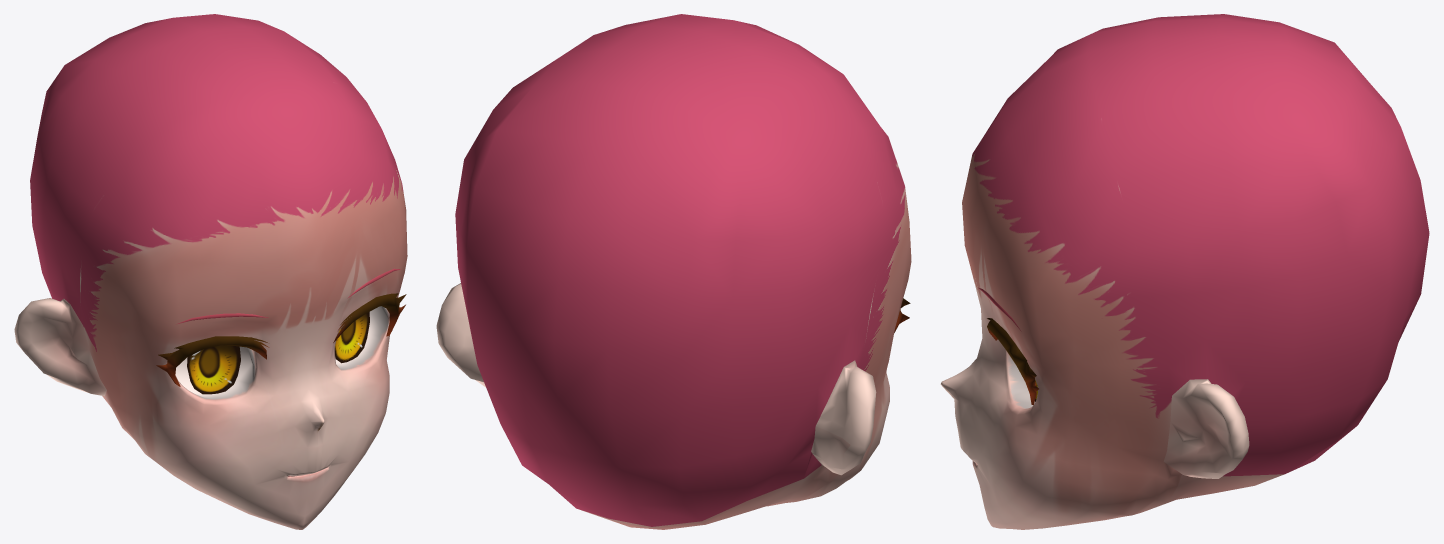
The picture shows the model from 3 angles, left to right: view 1: azimuth 30°, elevation 25°; view 2: azimuth 150°, elevation 25°; view 3: azimuth 270°, elevation 25°; orthographic projection. The views are drawn at different scales.
Visible parts, largest first — view 1: face_anime:pasted__pasted__transform6, TEMPORARY_IMPORT_NAMESPACE__u_____h_V_F_C_v_0921:pasted__pol (×2), face_anime:pasted__pasted__polySurface6; view 2: face_anime:pasted__pasted__transform6; view 3: face_anime:pasted__pasted__transform6.
Boxes of the visible parts, bbox=[...] form: face_anime:pasted__pasted__transform6: bbox=[14, 14, 407, 529]; TEMPORARY_IMPORT_NAMESPACE__u_____h_V_F_C_v_0921:pasted__pol (×2): bbox=[187, 312, 369, 394]; face_anime:pasted__pasted__polySurface6: bbox=[176, 268, 400, 324]; face_anime:pasted__pasted__transform6: bbox=[436, 14, 911, 529]; face_anime:pasted__pasted__transform6: bbox=[940, 14, 1429, 529].
Bounding box in the file's own units: 21.5 × 24.56 × 22.19.
Materials: 4 (3 with a texture image).
